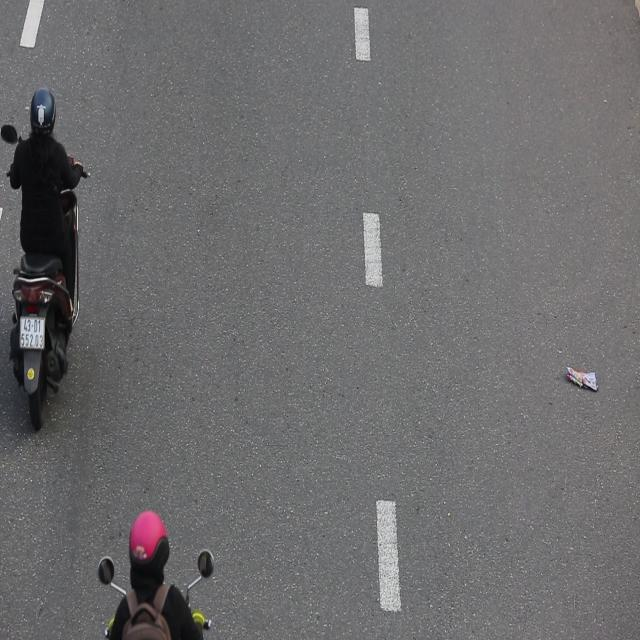motorbike: (2, 87, 84, 431)
